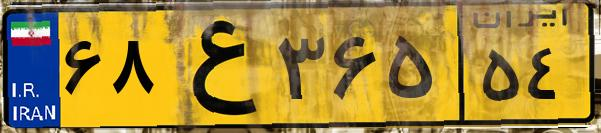3: (270, 28, 330, 110)
4: (525, 38, 570, 115)
5: (385, 28, 445, 110), (475, 38, 525, 113)
6: (330, 28, 385, 110), (57, 26, 110, 100)
8: (110, 28, 158, 98)
ع: (158, 12, 270, 120)
